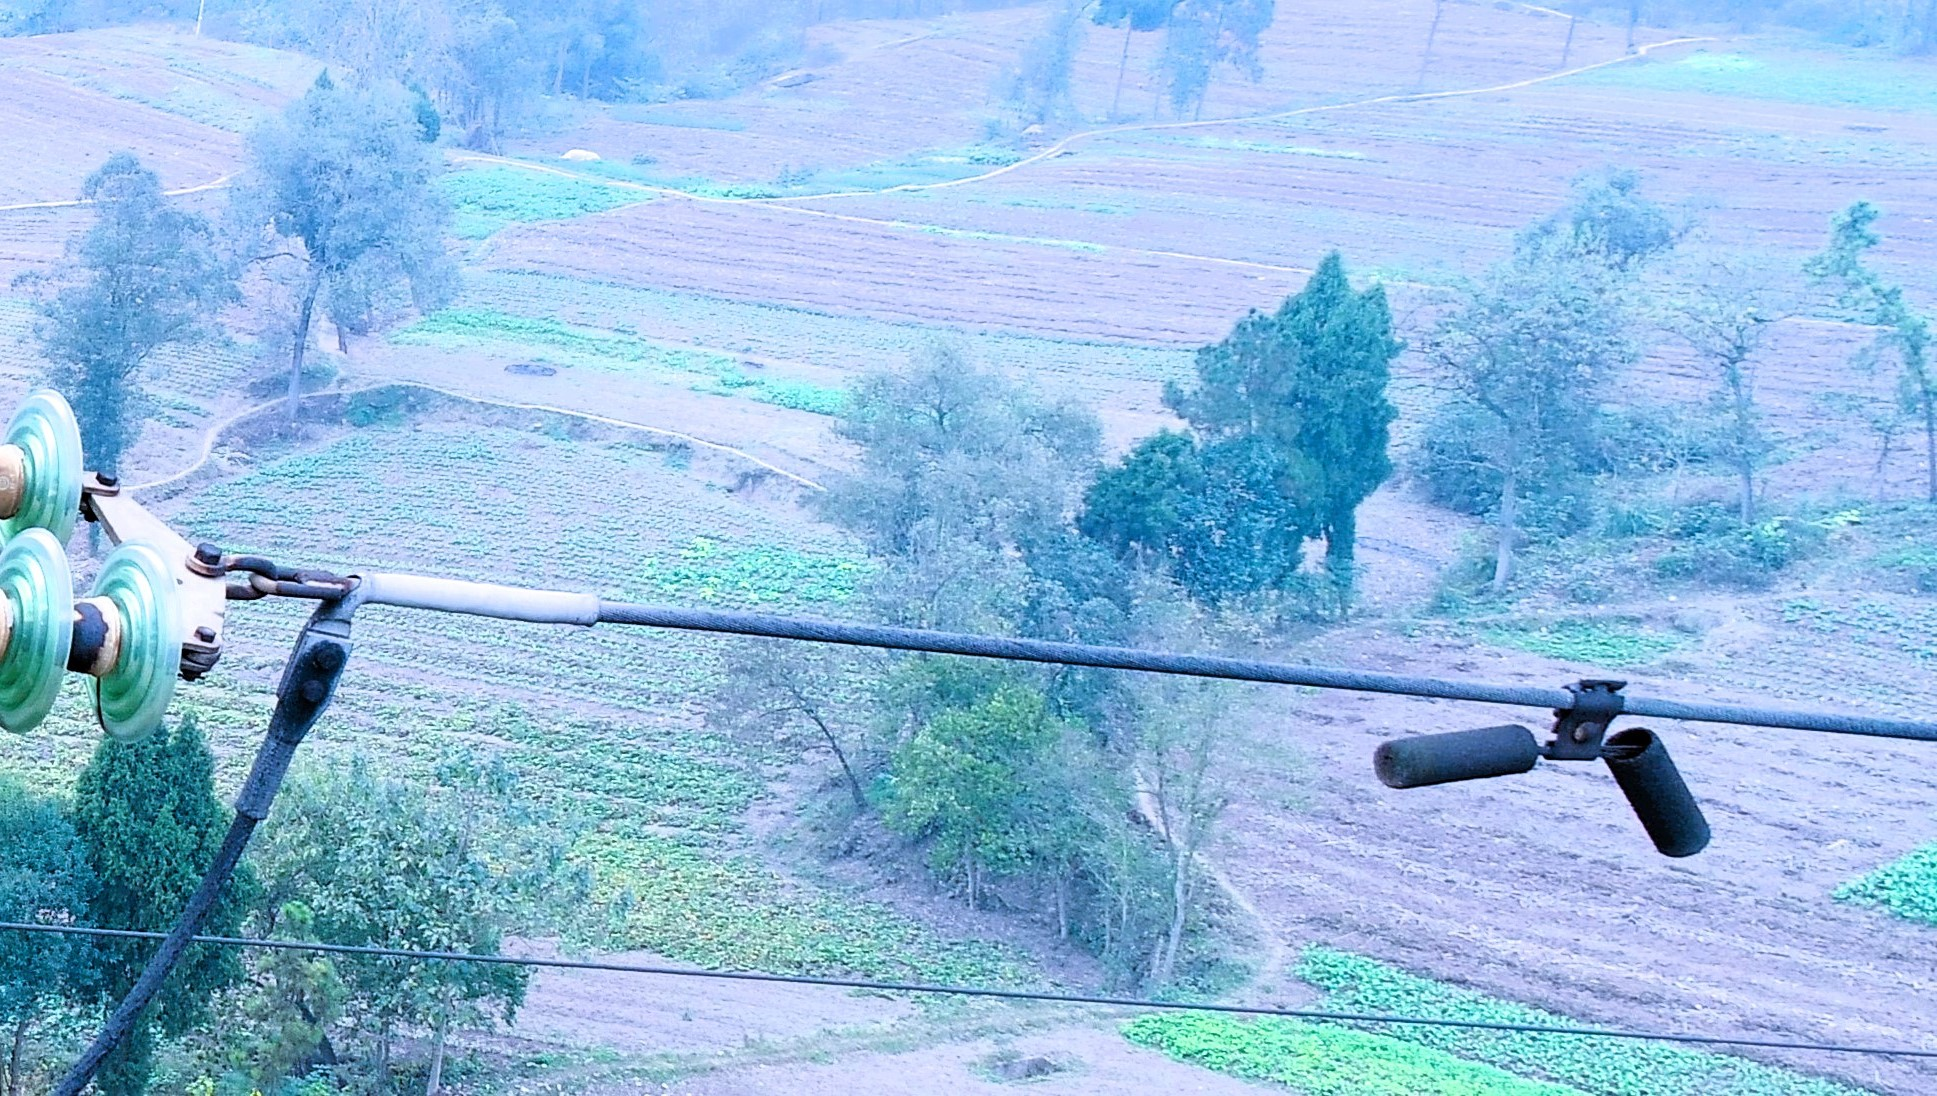Damage of shockproof hammer: (1350, 636, 1736, 885)
